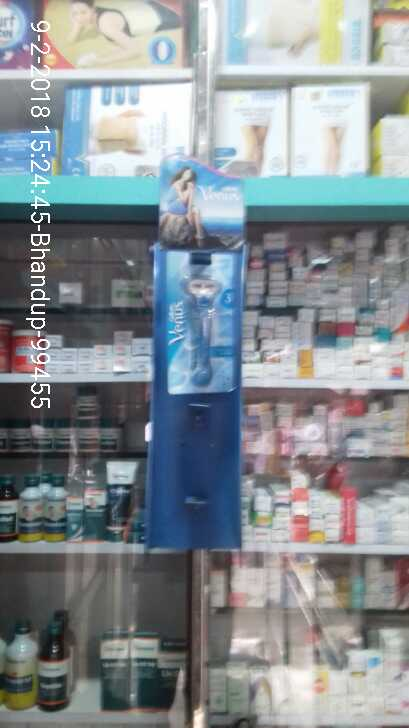venus: (167, 250, 234, 391)
